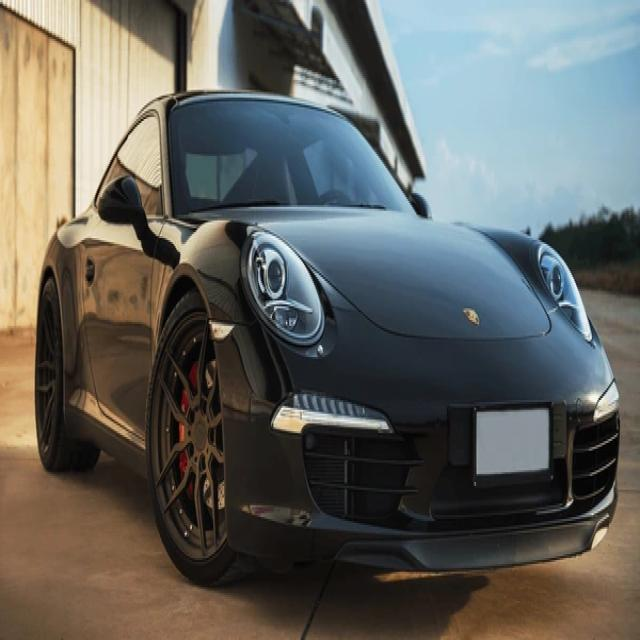porsche: (462, 301, 486, 327)
